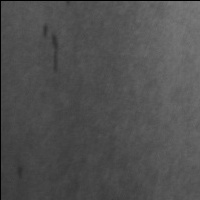inclusion: (38, 20, 63, 76), (13, 161, 28, 184)
